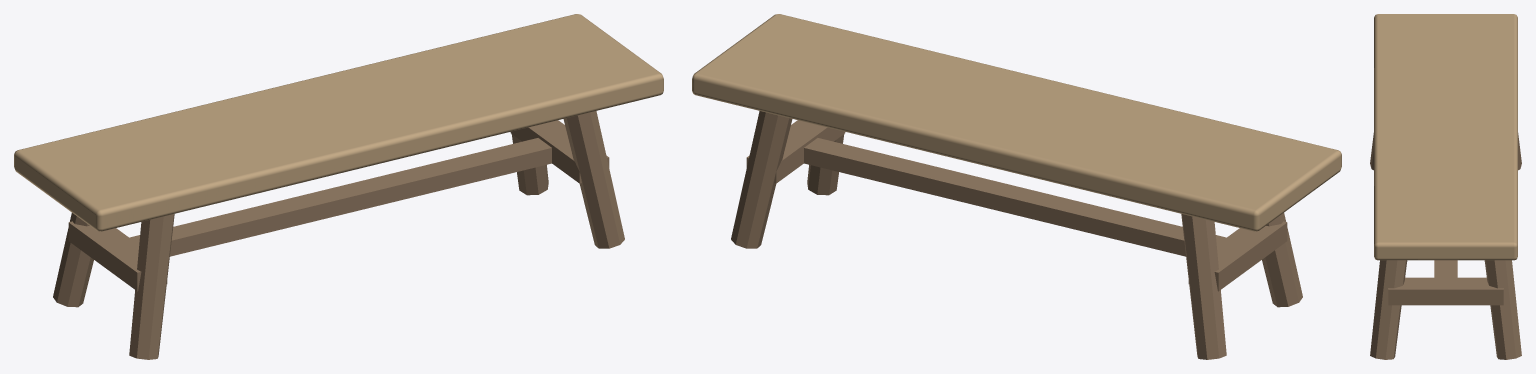
File: korean-hanok-village-and-street-wooden-bench-94b3dfde__38071.glb
3 views of the same model, side by side, from view 1: azimuth 30°, elevation 25°; view 2: azimuth 150°, elevation 25°; view 3: azimuth 270°, elevation 25° (orthographic). The views are drawn at different scales.
Visible parts, largest first — view 1: wooden-bench; view 2: wooden-bench; view 3: wooden-bench.
Boxes of the visible parts, bbox=[...] form: wooden-bench: bbox=[14, 14, 663, 359]; wooden-bench: bbox=[692, 14, 1341, 359]; wooden-bench: bbox=[1370, 14, 1521, 359].
Bounding box in the file's own units: 1.9 × 0.5195 × 0.5269.
